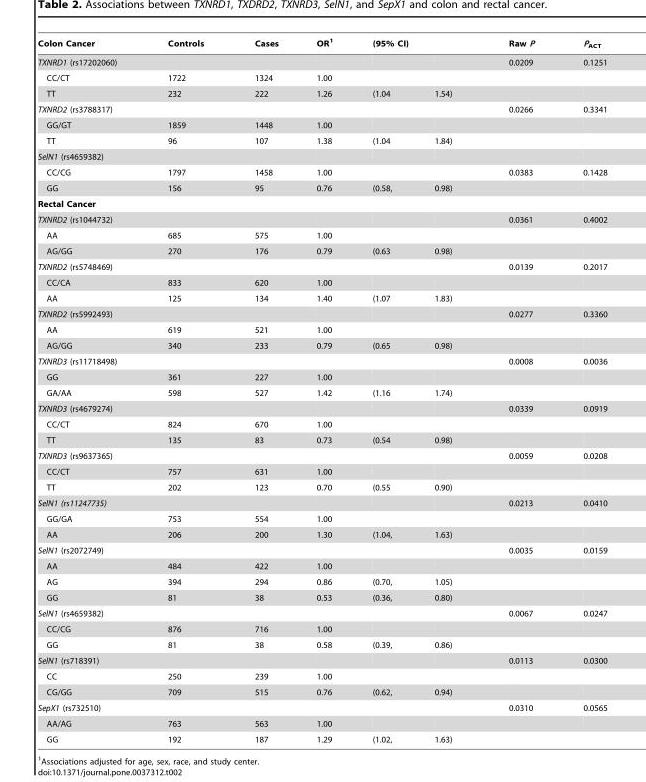table: (37, 37, 606, 743)
table column: (37, 37, 139, 743), (139, 37, 228, 743), (479, 37, 558, 743), (228, 37, 296, 743), (412, 37, 479, 743), (352, 37, 412, 743), (296, 37, 352, 743), (558, 37, 606, 743)
table column header: (37, 37, 606, 69)
table projected row header: (37, 148, 606, 164), (37, 195, 606, 211)
table row: (37, 37, 606, 53), (37, 53, 606, 69), (37, 69, 606, 85), (37, 85, 606, 101), (37, 101, 606, 117), (37, 132, 606, 148), (37, 148, 606, 164), (37, 164, 606, 180), (37, 195, 606, 211), (37, 211, 606, 227), (37, 227, 606, 243), (37, 258, 606, 274), (37, 274, 606, 290), (37, 290, 606, 306), (37, 321, 606, 337), (37, 337, 606, 353), (37, 353, 606, 369), (37, 384, 606, 400), (37, 400, 606, 416), (37, 416, 606, 432), (37, 447, 606, 463), (37, 463, 606, 479), (37, 479, 606, 495), (37, 510, 606, 526), (37, 526, 606, 542), (37, 542, 606, 558), (37, 573, 606, 589), (37, 589, 606, 605), (37, 605, 606, 621), (37, 636, 606, 652), (37, 652, 606, 668), (37, 668, 606, 684), (37, 699, 606, 715), (37, 715, 606, 731), (37, 117, 606, 132), (37, 180, 606, 195), (37, 243, 606, 258), (37, 306, 606, 321), (37, 369, 606, 384), (37, 432, 606, 447), (37, 495, 606, 510), (37, 558, 606, 573), (37, 621, 606, 636), (37, 684, 606, 699), (37, 731, 606, 743)
table spanning cell: (37, 53, 228, 69), (37, 353, 228, 369), (479, 37, 558, 69), (228, 37, 296, 69), (352, 37, 479, 53), (296, 37, 352, 69), (558, 37, 606, 69)
